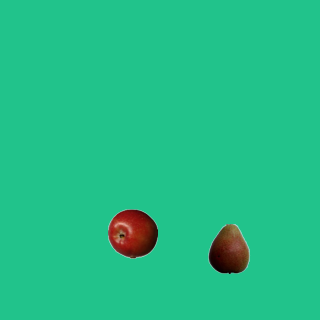Apple Braeburn: (107, 208, 157, 258)
Pear Forelle: (203, 223, 253, 273)
